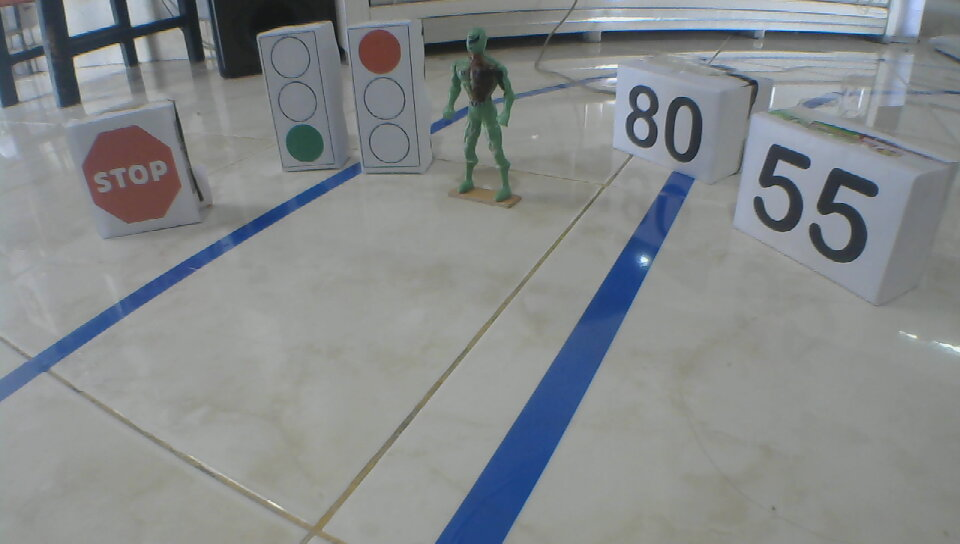Green Light: (270, 35, 325, 164)
Person: (443, 28, 517, 202)
Red Light: (356, 28, 412, 164)
Speed 55: (751, 143, 883, 266)
Speed 80: (623, 85, 705, 164)
Stop: (80, 125, 184, 225)
